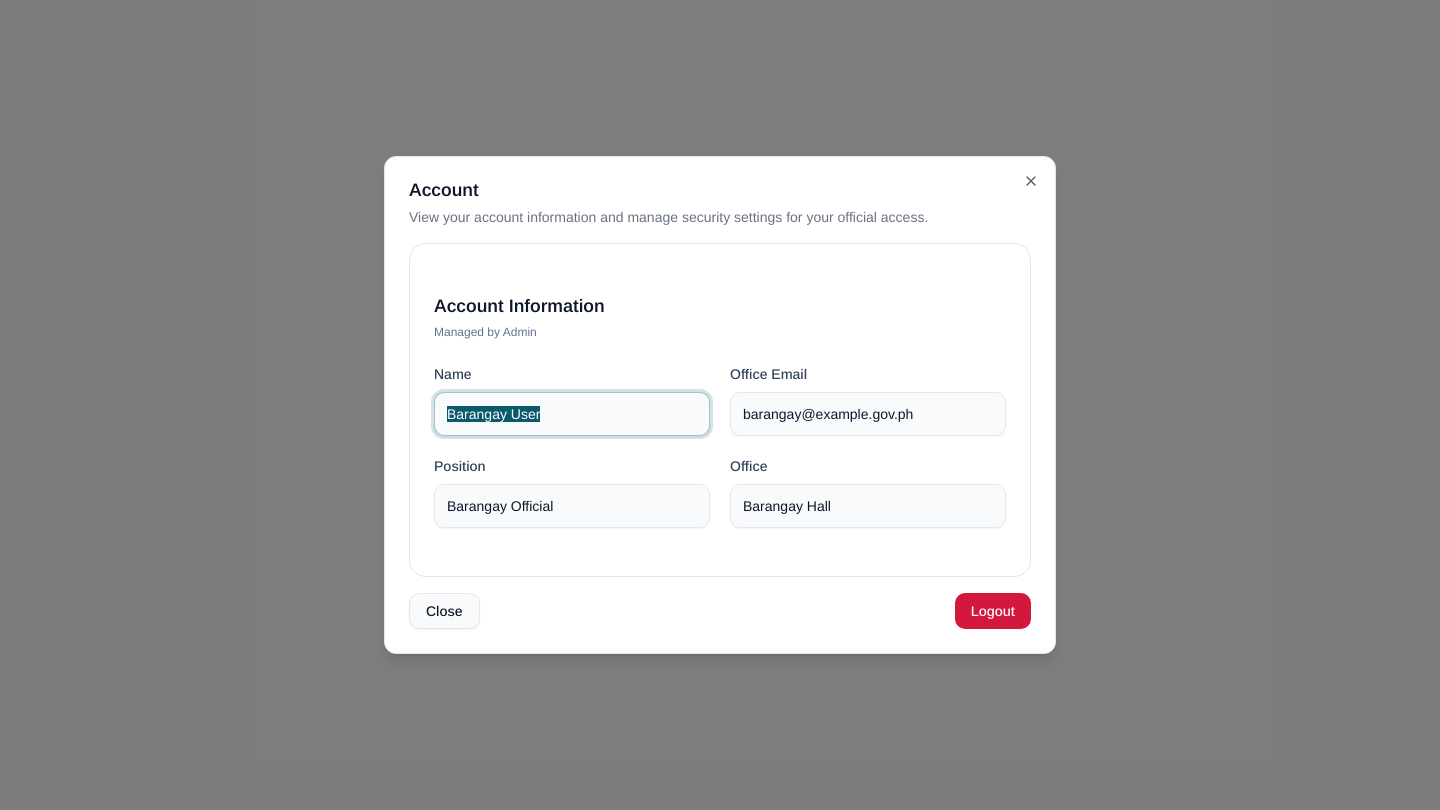
Test: AccountModal › shows an inline error when logout fails
Step 1. Click the button "Logout" → click(993, 611), box [955,593,1031,629]
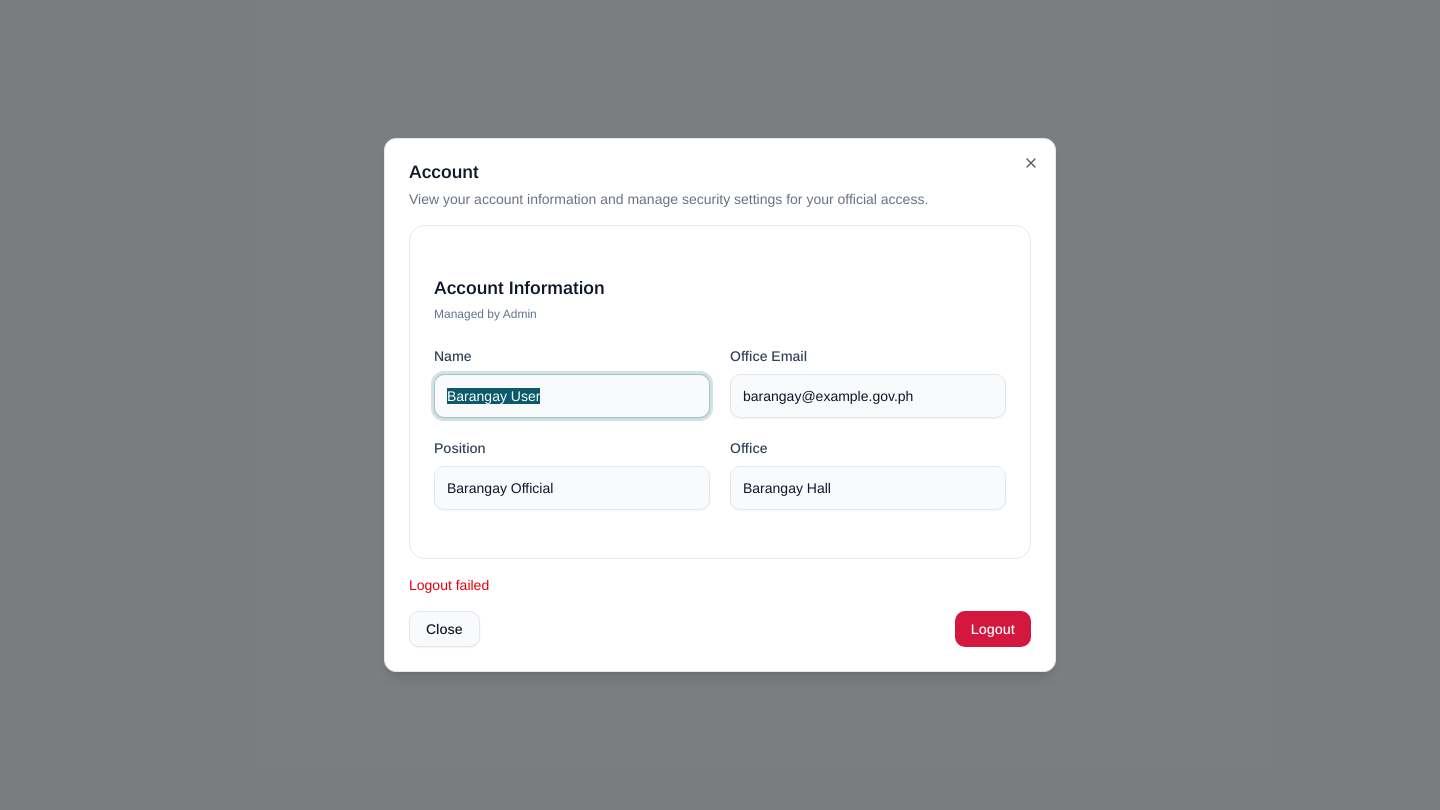
Check: the message reads "Logout failed", box [409,577,489,593]
